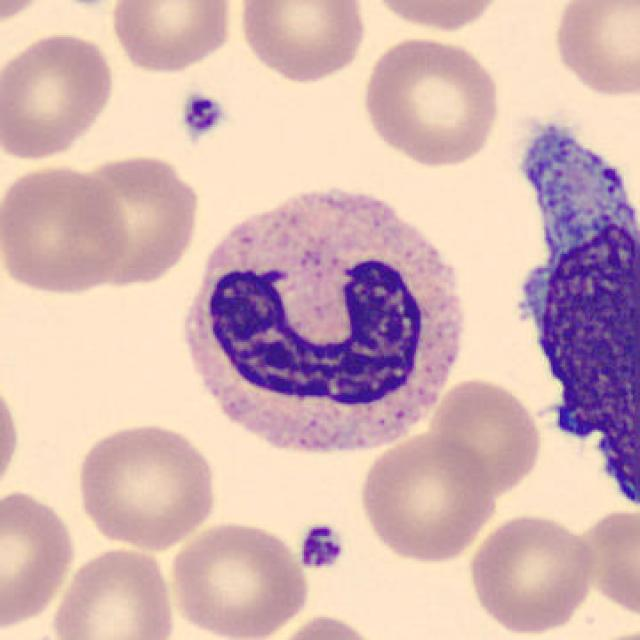Monocyte: (498, 114, 640, 522)
Neutrophil: (167, 171, 478, 474)
Platelets: (295, 520, 347, 573), (176, 90, 228, 143)
RBC: (71, 418, 221, 552), (359, 34, 503, 170), (356, 428, 500, 564), (71, 148, 205, 291), (0, 160, 133, 297), (165, 518, 313, 640), (464, 509, 599, 636), (0, 28, 119, 164), (428, 374, 544, 495), (49, 545, 180, 640), (233, 0, 370, 85), (0, 485, 78, 631), (106, 0, 236, 76), (547, 0, 638, 100), (559, 507, 640, 613), (360, 0, 510, 33), (265, 612, 386, 640), (0, 368, 23, 506), (0, 0, 53, 26)
